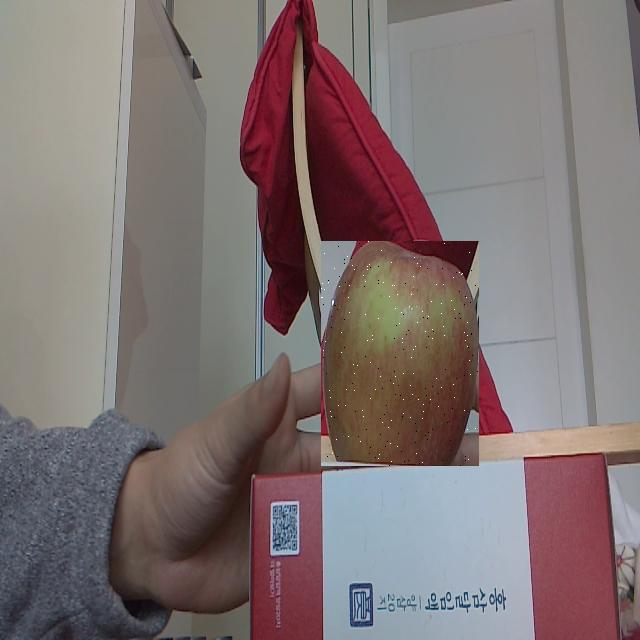apple: (321, 241, 479, 466)
